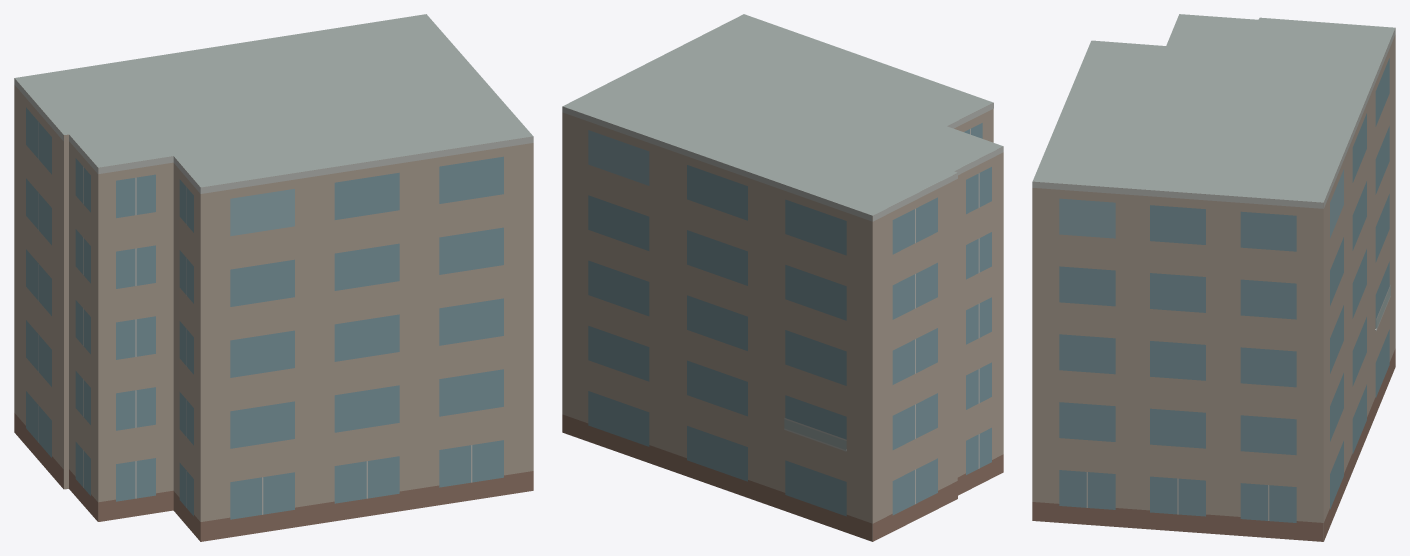
File: survey-upis-32536292.glb
3 renders of one model, left to right at view 1: azimuth 30°, elevation 25°; view 2: azimuth 150°, elevation 25°; view 3: azimuth 270°, elevation 25°, orthographic. The views are drawn at different scales.
Visible parts, largest first — view 1: survey-upis-32536292.tmp; view 2: survey-upis-32536292.tmp; view 3: survey-upis-32536292.tmp.
Part boxes in pixels (x1,y1,x2,y2): survey-upis-32536292.tmp: (14,14,533,541); survey-upis-32536292.tmp: (562,14,1003,541); survey-upis-32536292.tmp: (1032,14,1395,541).
Bounding box in the file's own units: 15.87 × 13.3 × 12.91.
